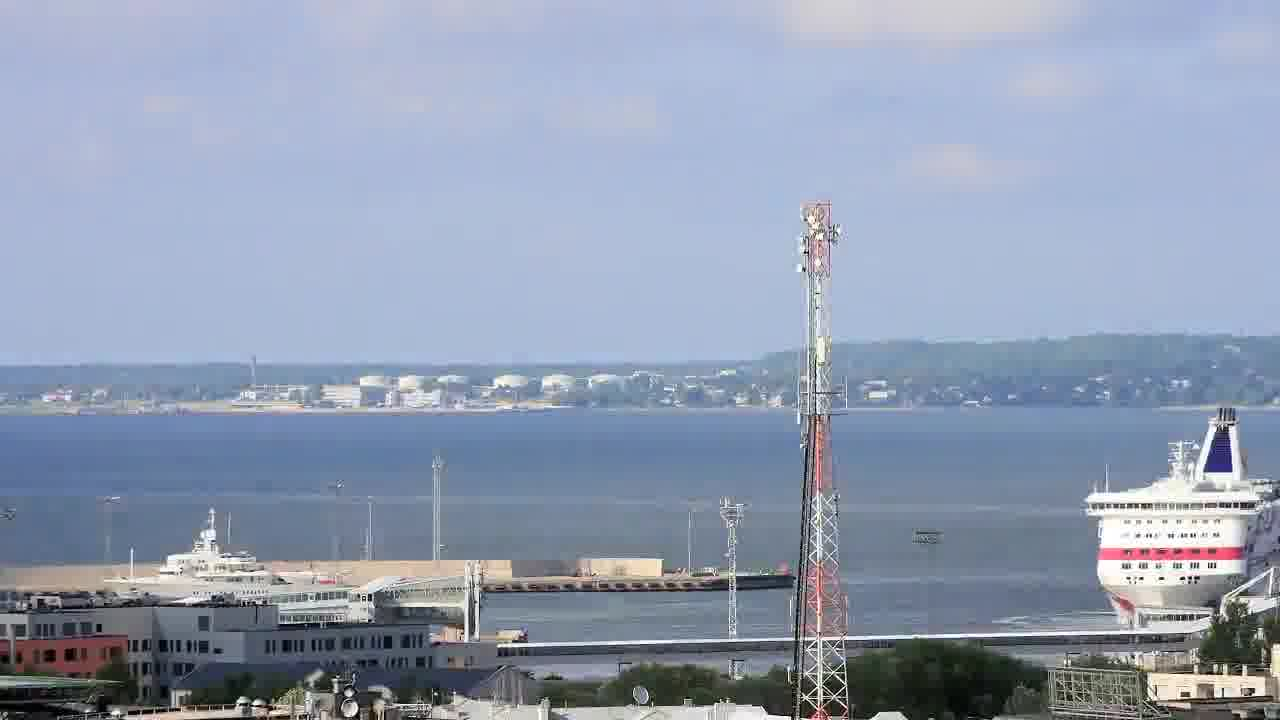type-3: (1077, 386, 1280, 638), (89, 518, 402, 620)
